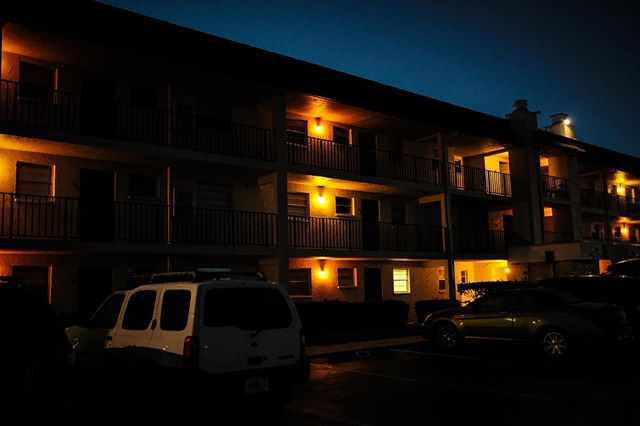building: (4, 5, 640, 274)
car: (74, 276, 313, 419), (415, 280, 620, 353)
sky: (211, 1, 630, 149)
